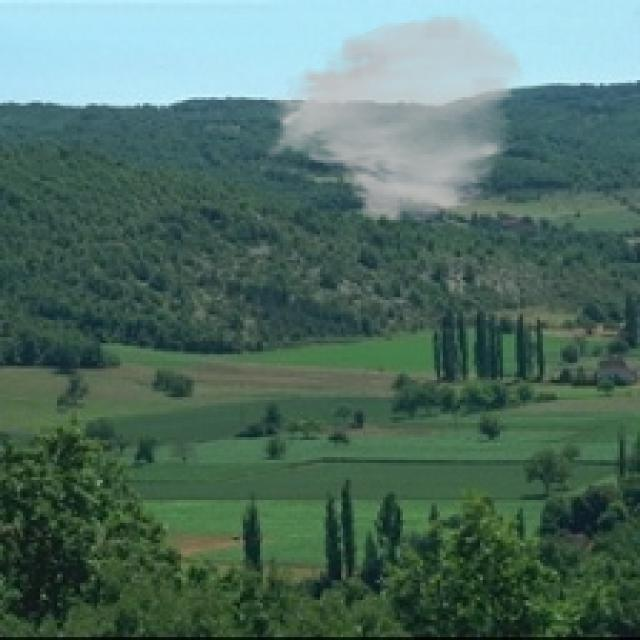Smoke: (260, 11, 529, 226)
